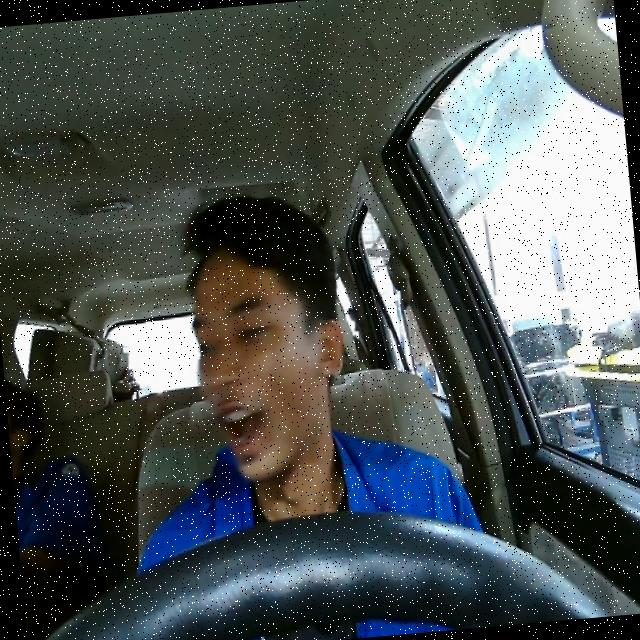yarning: (182, 236, 353, 482)
